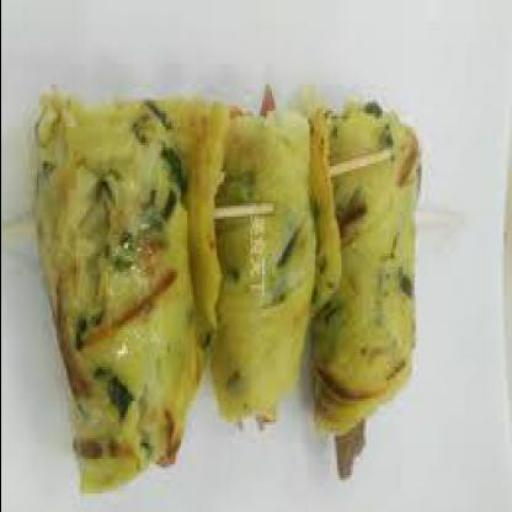biodegradable: (36, 90, 231, 493), (314, 101, 426, 477), (209, 84, 320, 428)
